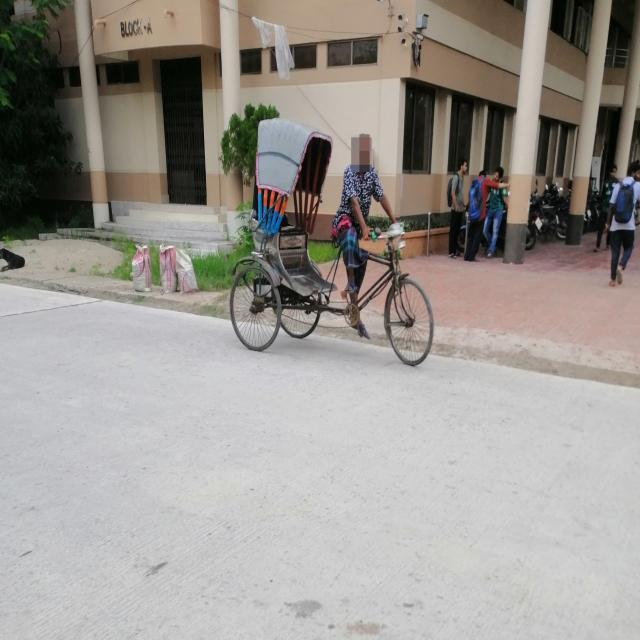Rickshaw: (217, 106, 442, 375)
